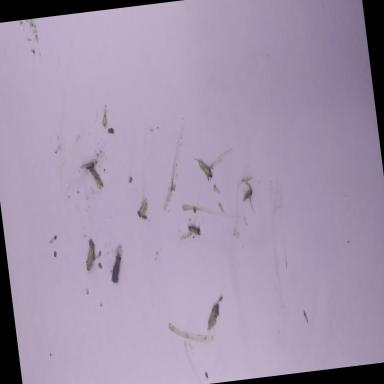pbw: (82, 240, 97, 274), (194, 156, 213, 180), (205, 304, 221, 330), (88, 165, 104, 190), (136, 198, 149, 218), (187, 224, 201, 236), (79, 162, 95, 170)
